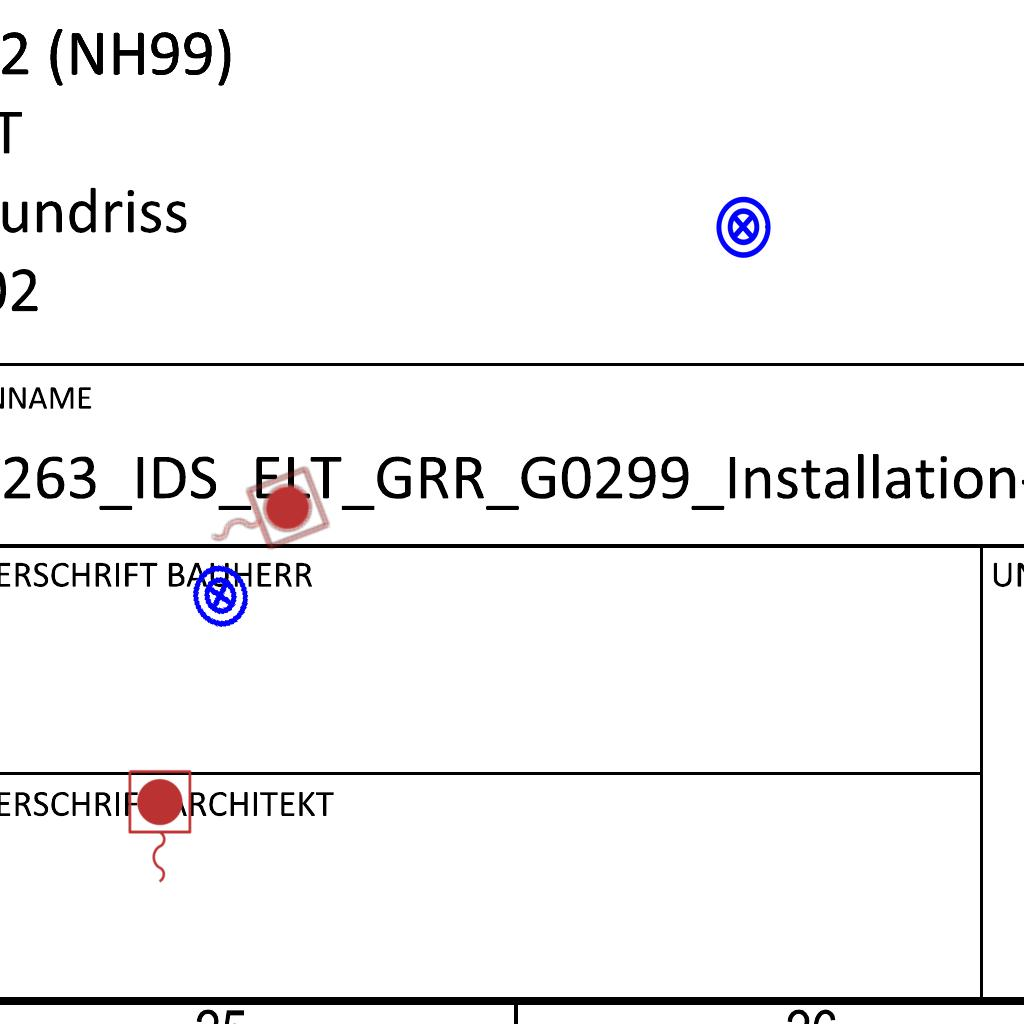Taster_beleuchtet: (179, 555, 261, 637), (710, 194, 776, 260)
Zugtaster: (194, 460, 334, 572), (123, 766, 195, 888)
